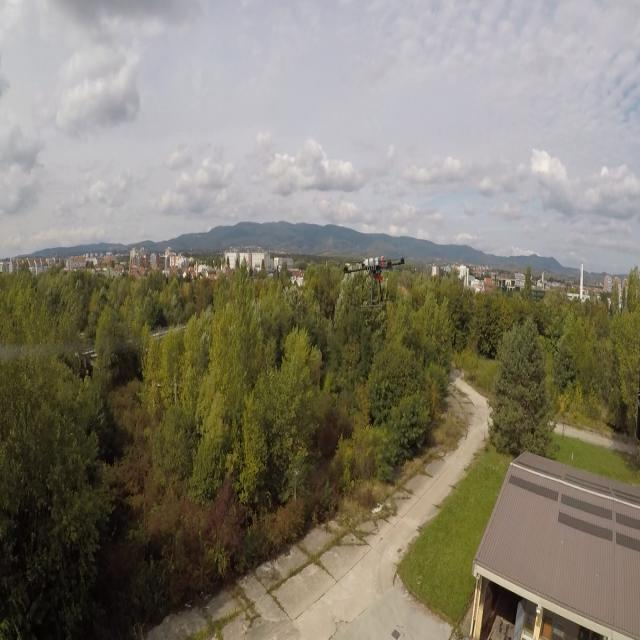UAV: (344, 252, 406, 312)
